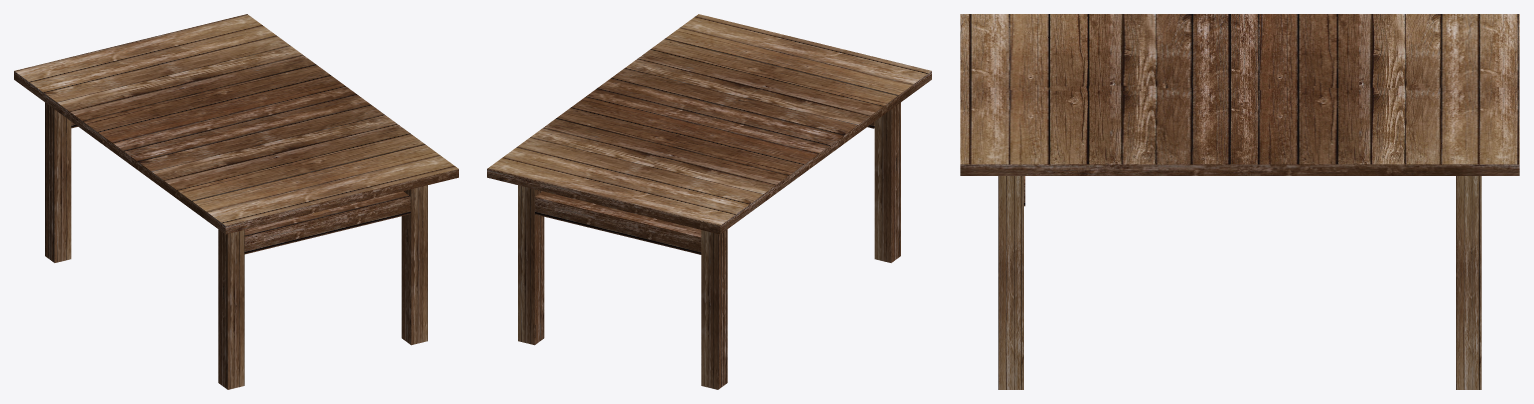
File: stol.fbx
The picture shows the model from 3 angles, left to right: view 1: azimuth 30°, elevation 25°; view 2: azimuth 150°, elevation 25°; view 3: azimuth 270°, elevation 25°; orthographic projection. The views are drawn at different scales.
Parts seen in each view (by area): view 1: Platte, Bein, Stütze_2, Bein_3, Bein_2; view 2: Platte, Stütze, Bein_3, Bein, Bein_4; view 3: Platte, Bein_2, Bein_4.
Boxes of the visible parts, left/top/right/bottom form: Platte: left=14, top=14, right=458, bottom=234; Bein: left=218, top=229, right=244, bottom=389; Stütze_2: left=244, top=191, right=410, bottom=254; Bein_3: left=45, top=102, right=71, bottom=262; Bein_2: left=401, top=185, right=427, bottom=345; Platte: left=487, top=14, right=931, bottom=234; Stütze: left=535, top=191, right=701, bottom=254; Bein_3: left=701, top=229, right=727, bottom=389; Bein: left=874, top=102, right=900, bottom=262; Bein_4: left=518, top=185, right=544, bottom=345; Platte: left=960, top=14, right=1519, bottom=175; Bein_2: left=998, top=176, right=1023, bottom=389; Bein_4: left=1456, top=176, right=1481, bottom=389.
Size of the model in its own units: 140 by 103 by 220.
Materials: 5 (5 with a texture image).
